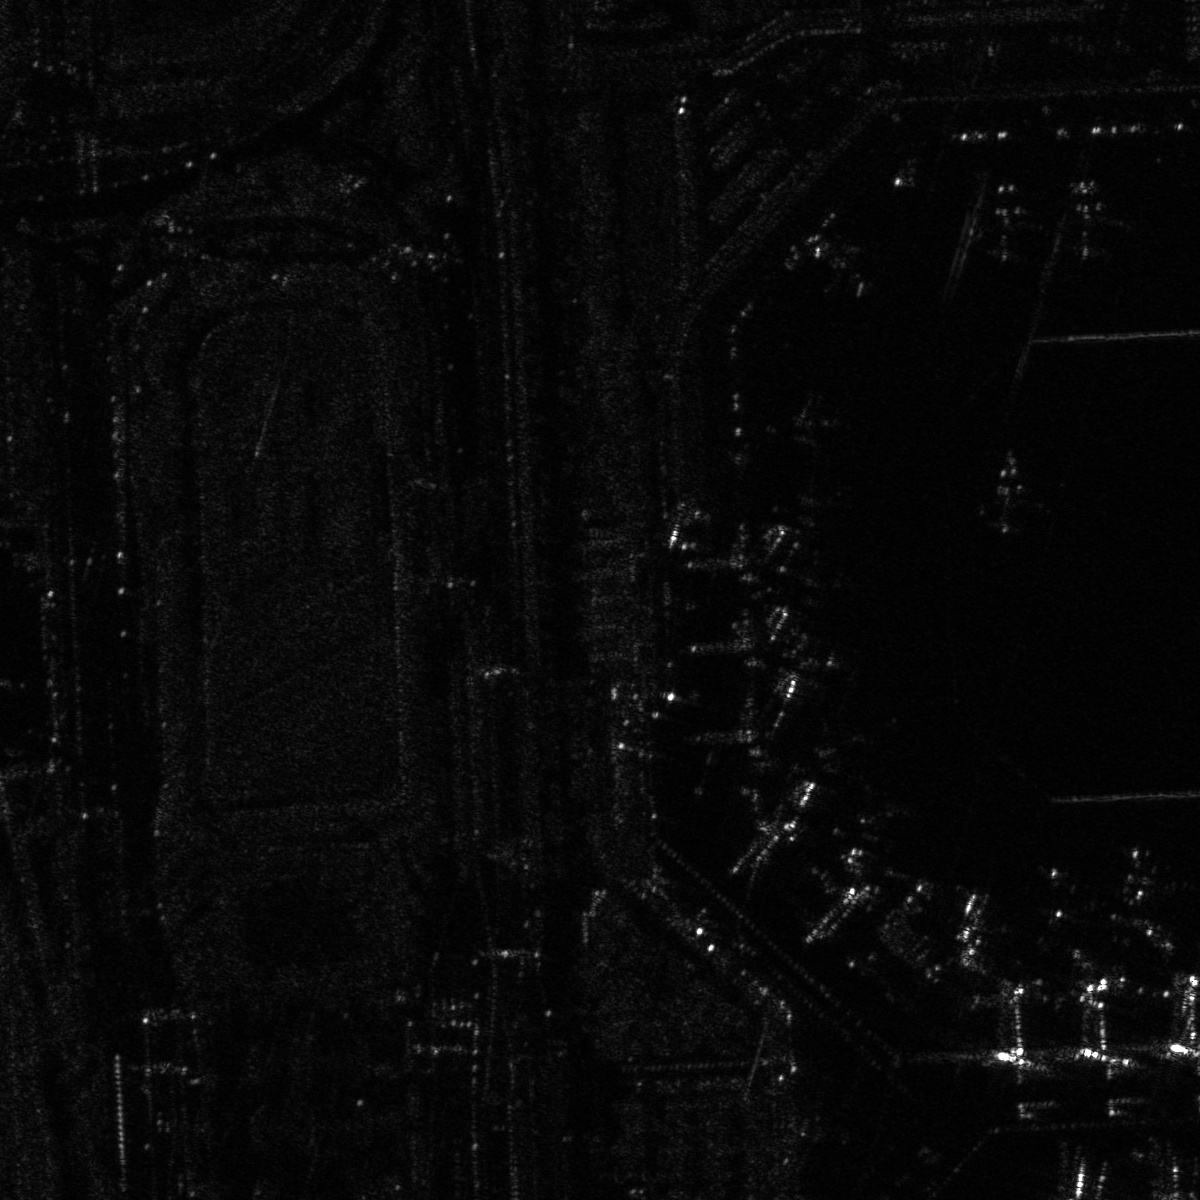A220: (815, 705, 915, 796), (1016, 855, 1109, 930), (757, 391, 844, 452), (812, 238, 879, 300)
Boeing737: (1054, 168, 1136, 271), (960, 176, 1046, 267)
other: (1087, 838, 1199, 911), (968, 449, 1052, 537)
